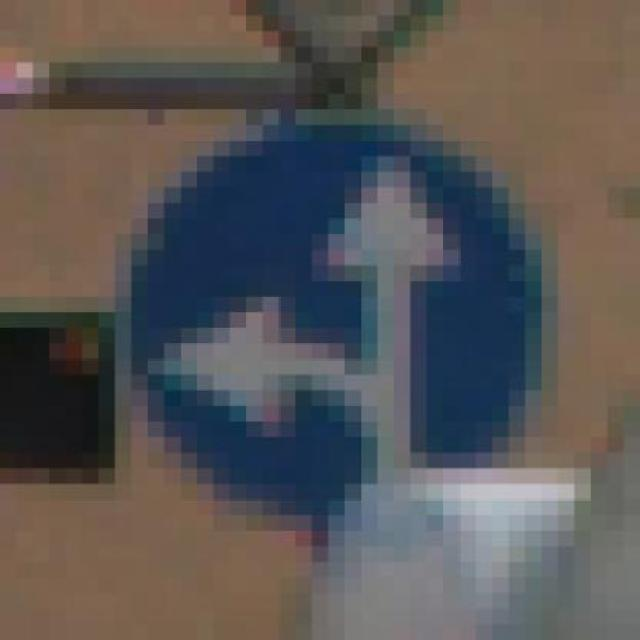Go straight or turn left: (81, 109, 558, 531)
